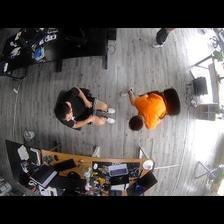normal: (121, 84, 185, 133), (55, 84, 116, 133)
